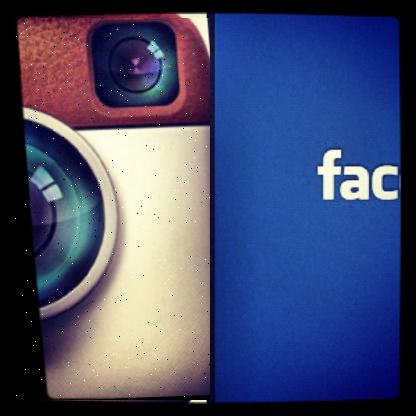Camera: (15, 19, 212, 402)
